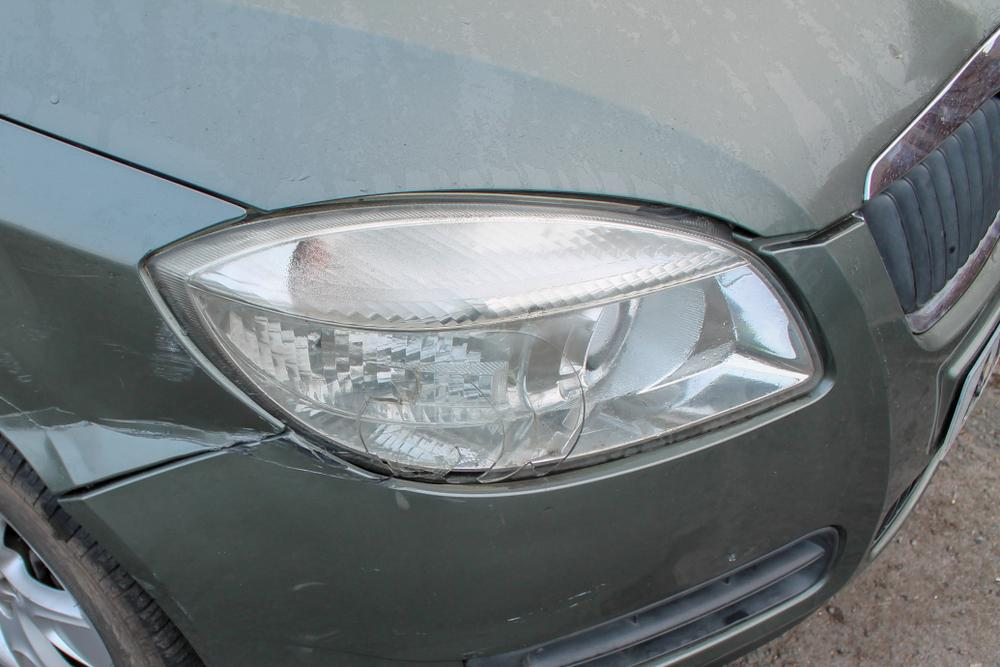dent: (0, 221, 281, 487)
lamp broken: (134, 197, 823, 487)
